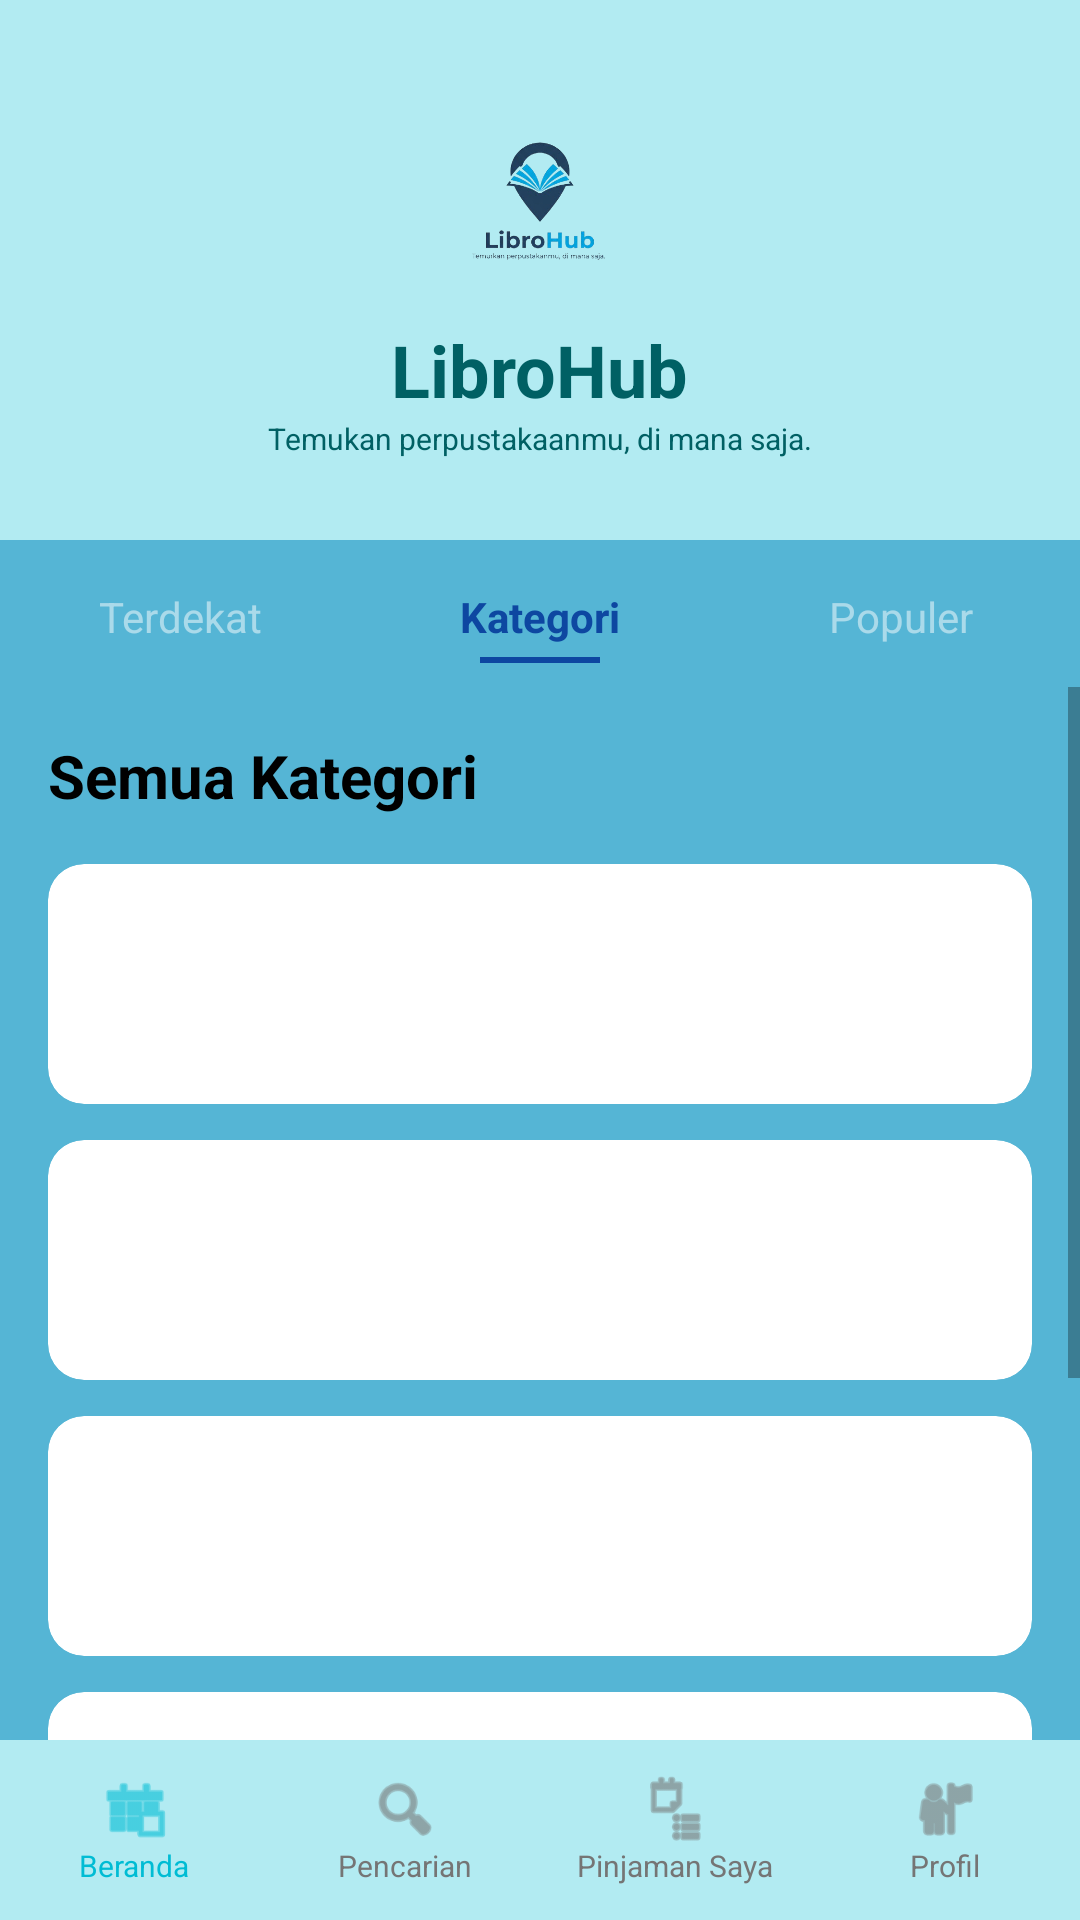

Point at icon controls on the screen. Image size 1080px x 1920px, points as point (x, y).
agenda: point (675, 1808)
myplaces: point (946, 1809)
today: point (135, 1810)
